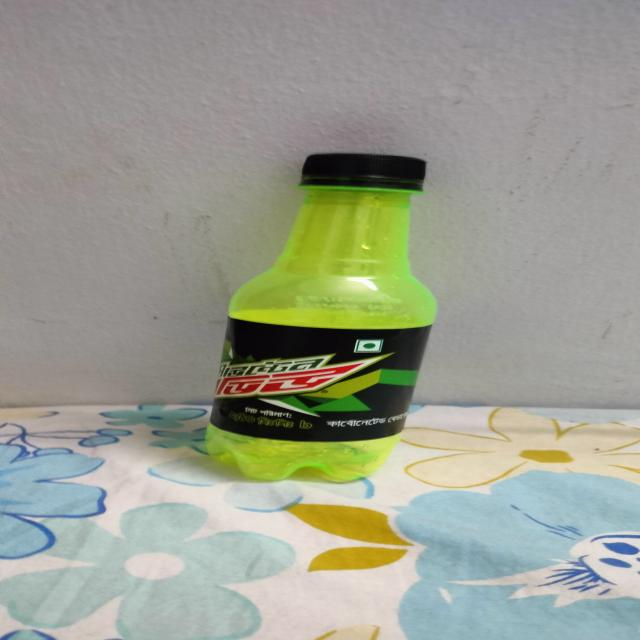Bottle: (205, 151, 437, 481)
